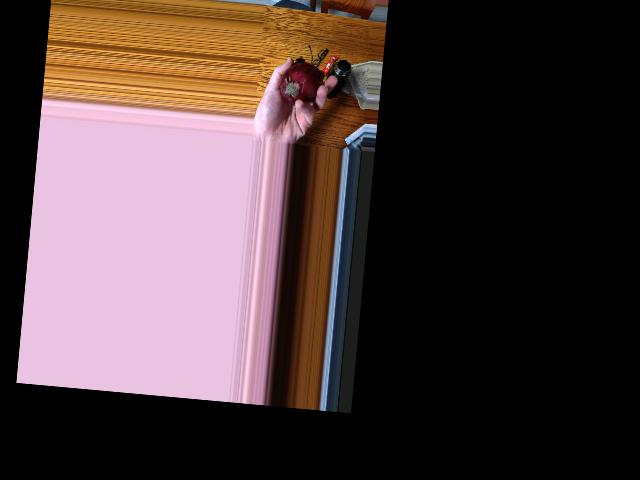onion: (278, 64, 320, 106)
